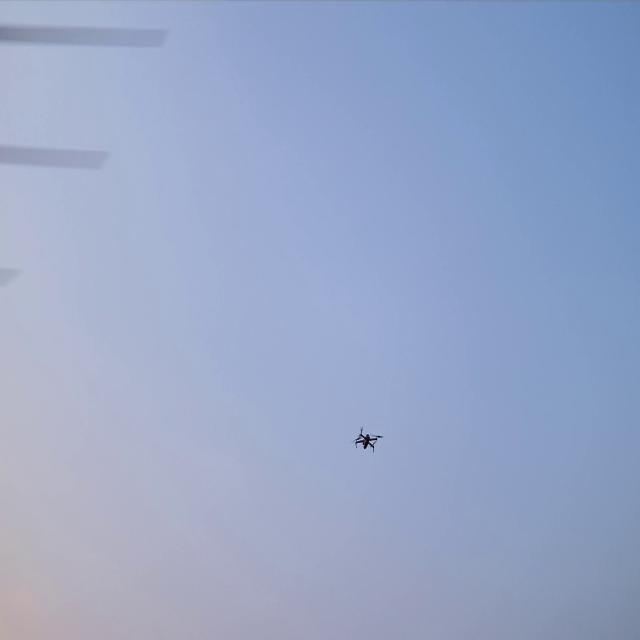UAV: (349, 425, 385, 454)
